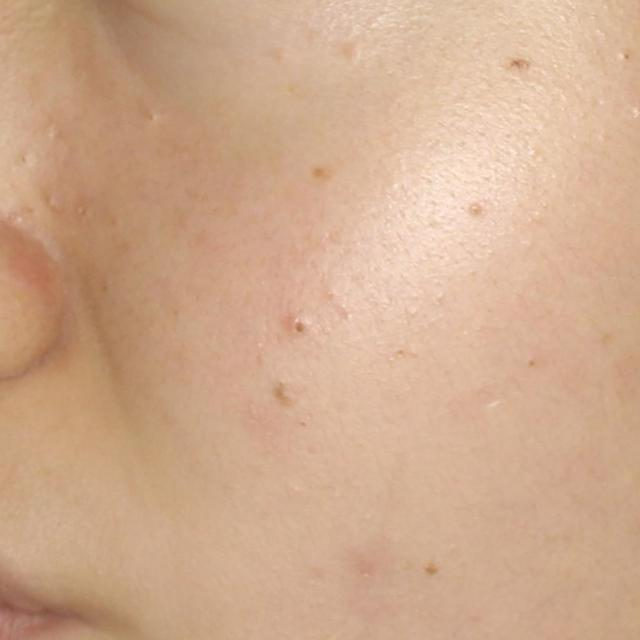blackhead: (294, 321, 307, 334), (425, 564, 439, 575), (470, 206, 480, 216), (396, 349, 406, 358), (298, 420, 308, 428), (528, 359, 535, 368), (102, 285, 108, 293), (511, 60, 518, 66), (623, 54, 630, 59)
